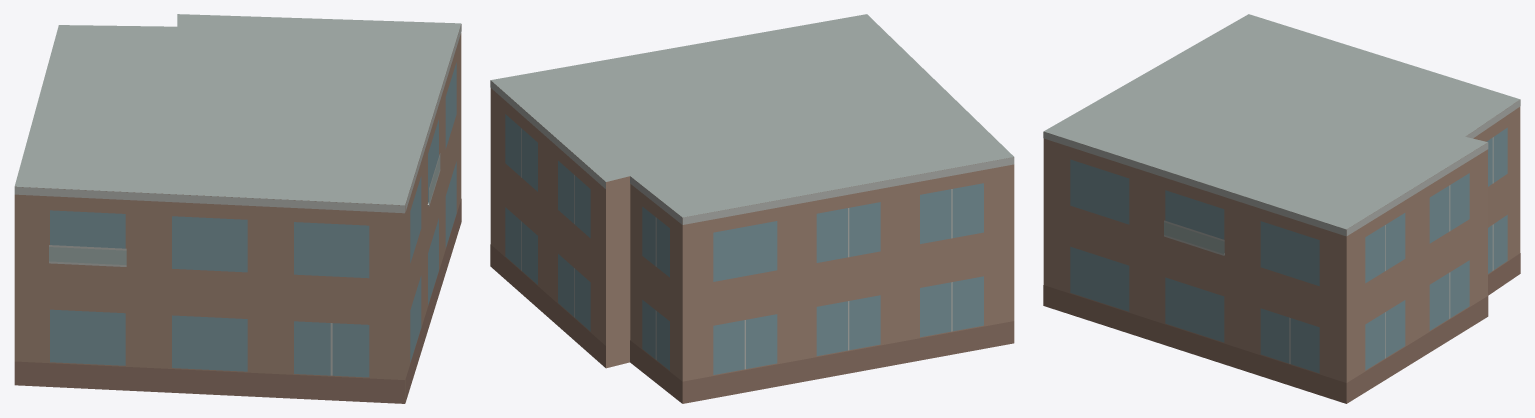
The model's file is survey-upis-32850020.glb.
3 views of the same model, side by side, from view 1: azimuth 30°, elevation 25°; view 2: azimuth 150°, elevation 25°; view 3: azimuth 270°, elevation 25° (orthographic). The views are drawn at different scales.
Parts seen in each view (by area): view 1: survey-upis-32850020.tmp; view 2: survey-upis-32850020.tmp; view 3: survey-upis-32850020.tmp.
Part boxes in pixels (x1,y1,x2,y2): survey-upis-32850020.tmp: (14,14,461,403); survey-upis-32850020.tmp: (490,14,1014,403); survey-upis-32850020.tmp: (1043,14,1520,403).
Bounding box in the file's own units: 16.17 × 6.1 × 15.13.
